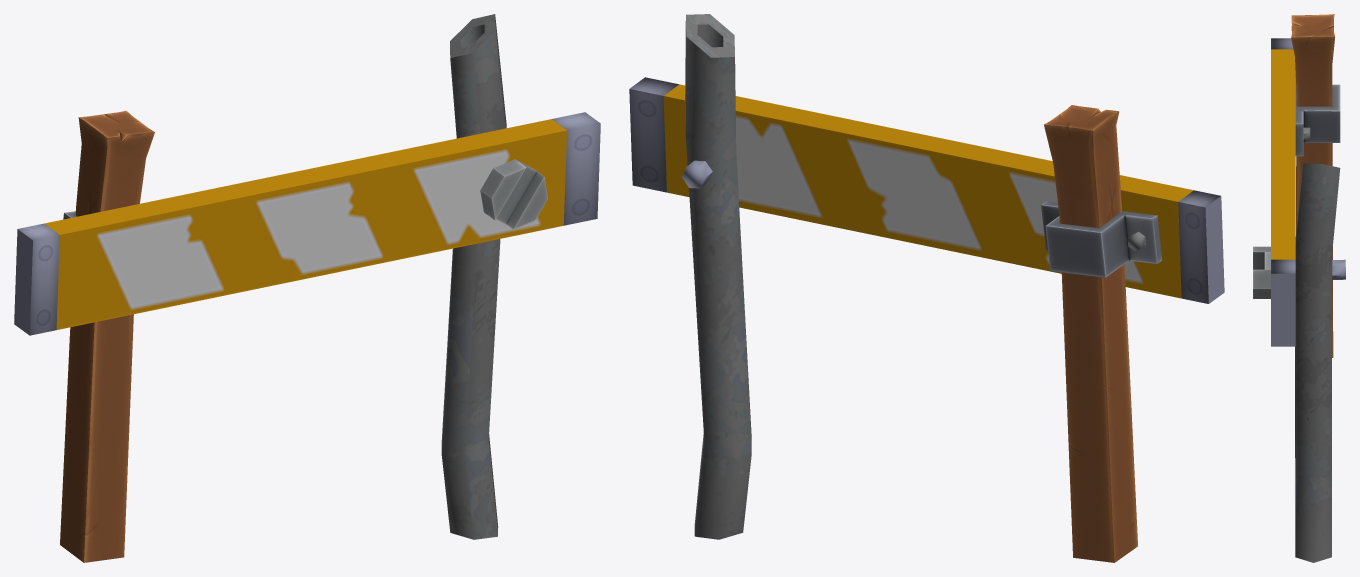
Rendered from hvs_hideout_fence05.fbx.
3 renders of one model, left to right at view 1: azimuth 30°, elevation 25°; view 2: azimuth 150°, elevation 25°; view 3: azimuth 270°, elevation 25°, orthographic. The views are drawn at different scales.
Parts seen in each view (by area): view 1: hvs_hideout_fence05; view 2: hvs_hideout_fence05; view 3: hvs_hideout_fence05.
Boxes of the visible parts, x1=… form: hvs_hideout_fence05: x1=14, y1=14, x2=600, y2=562; hvs_hideout_fence05: x1=629, y1=14, x2=1224, y2=562; hvs_hideout_fence05: x1=1253, y1=14, x2=1345, y2=562.
Size of the model in its own units: 8.26 by 7.02 by 1.48.
1 material, 1 textured.
